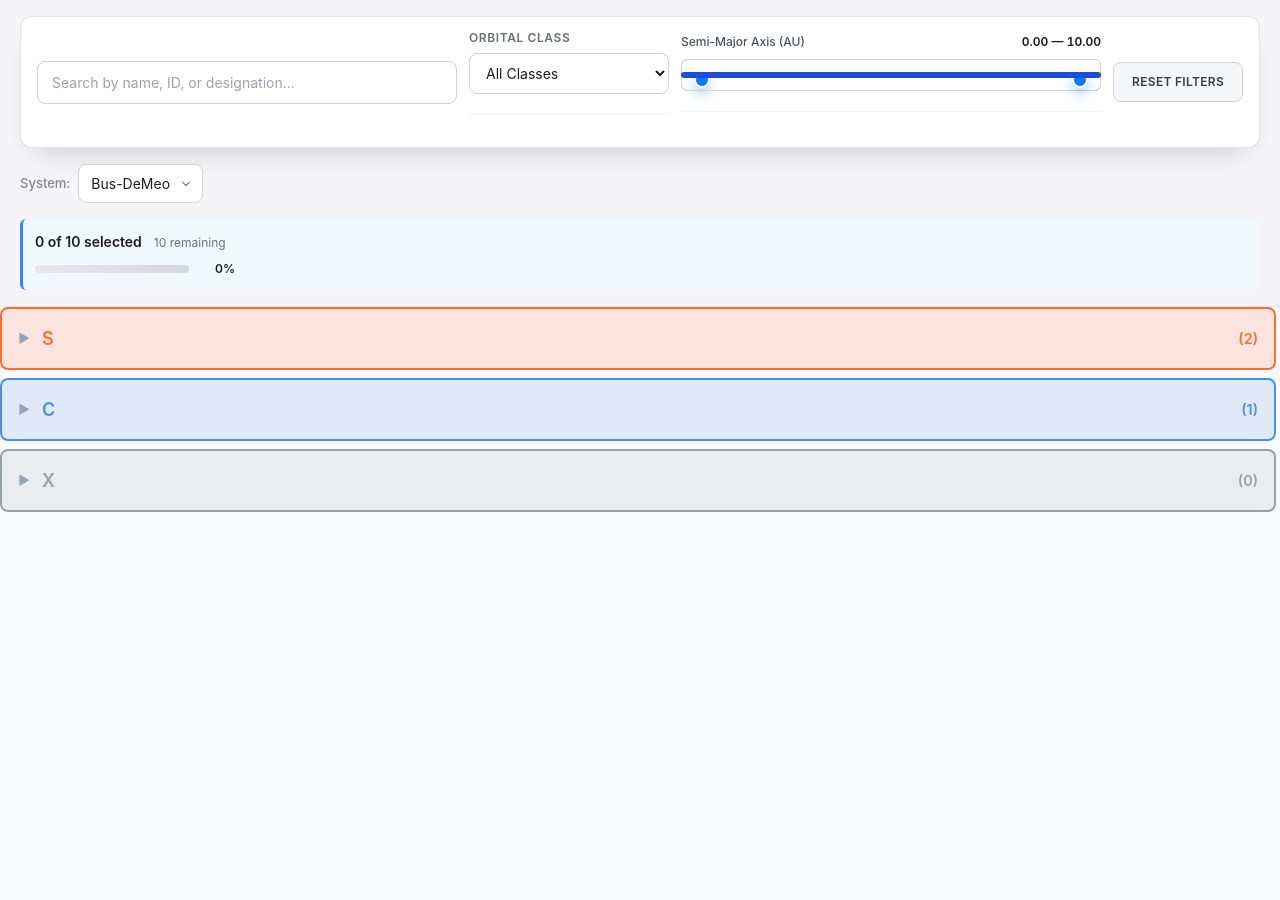
Test case: TaxonomyTree › supports bulk selection for an expanded classification
expect the text "S" is shown: met, box x1=42 y1=328 x2=54 y2=349
expect the text "Select All (2)" is not shown: met
Click the button with class "classification-header" showing "▶ S (2)" at (24, 338), box x1=0 y1=307 x2=1276 y2=370
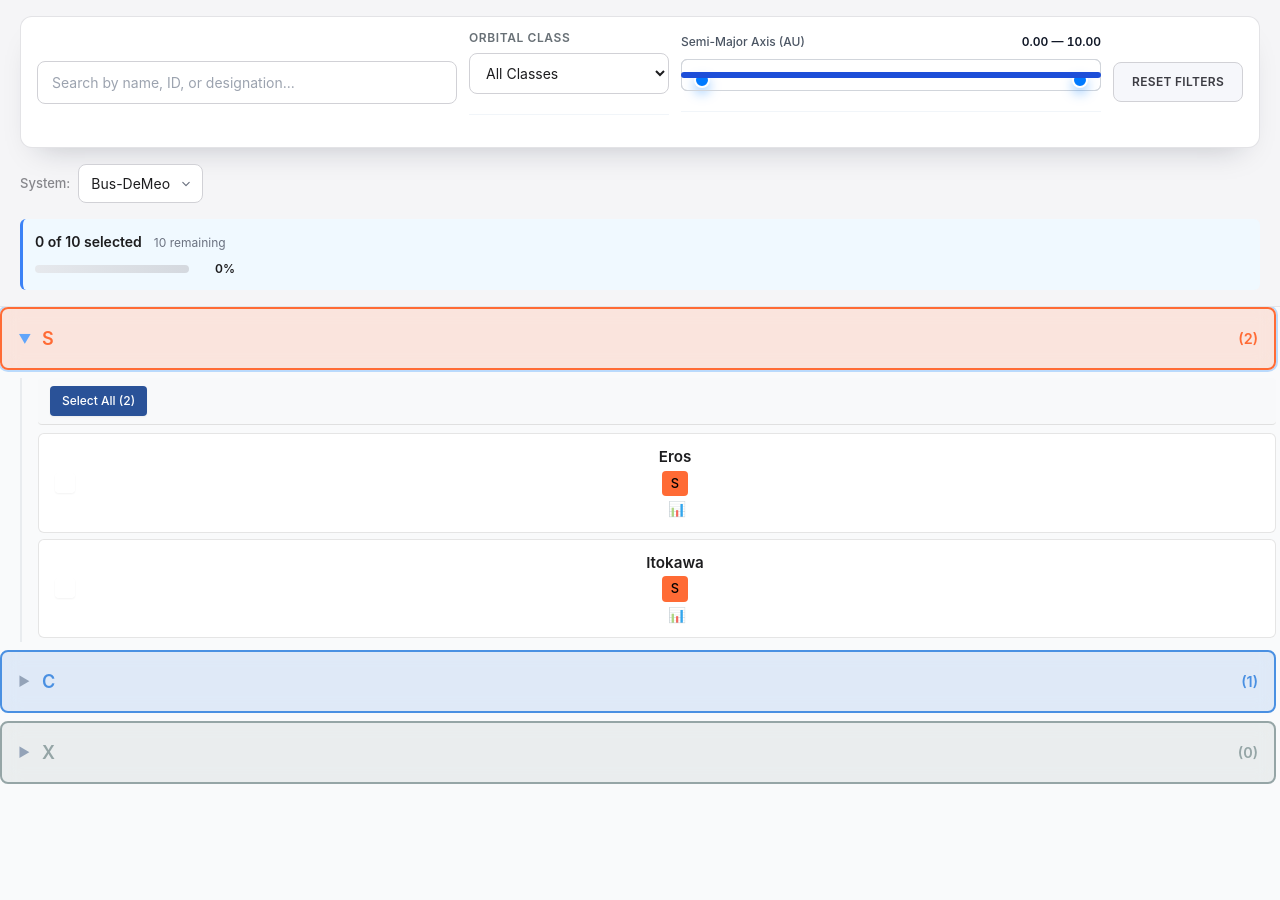
expect the button "Select All (2)" is shown: met
Click the button "Select All (2)" at (99, 401), box x1=50 y1=386 x2=147 y2=416
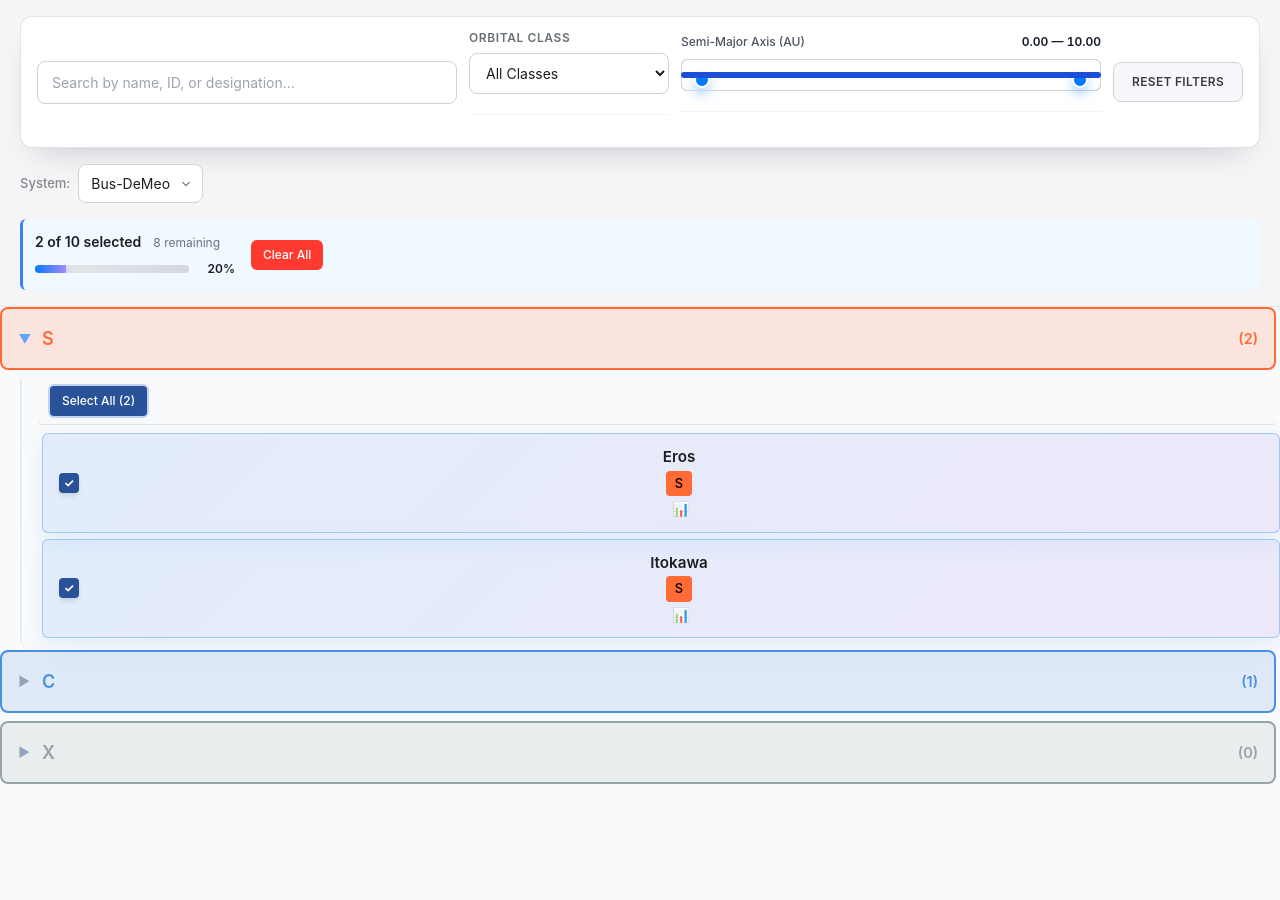
expect the text "2 of 10 selected" is shown: met, box x1=35 y1=231 x2=141 y2=252
expect the checkbox named "Select Eros" is checked: met, box x1=59 y1=473 x2=79 y2=493
expect the checkbox named "Select Itokawa" is checked: met, box x1=59 y1=578 x2=79 y2=598
